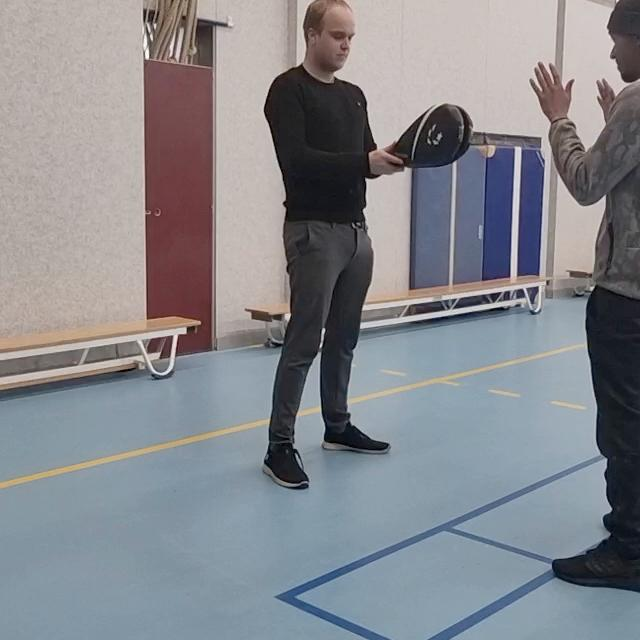paddle: (381, 101, 479, 173)
